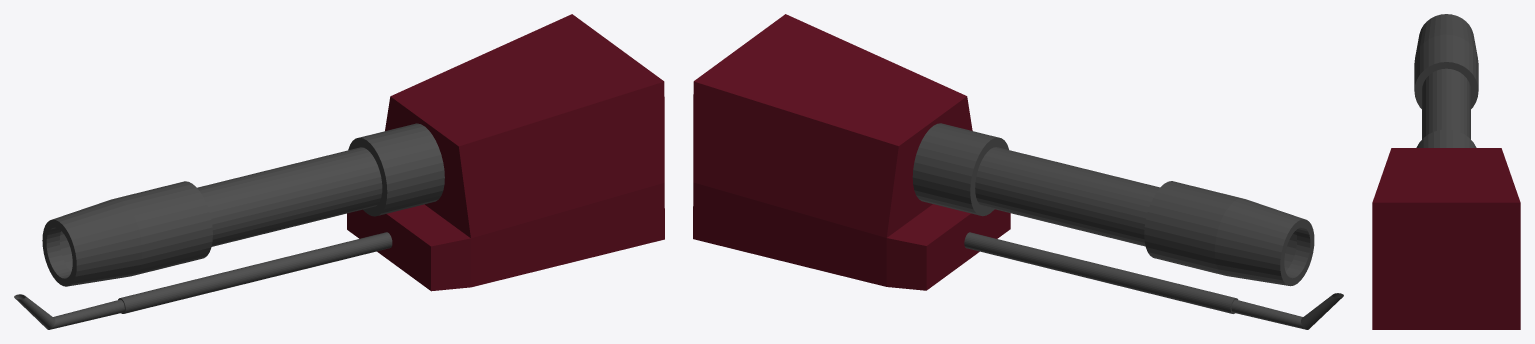
File: flamethrower.fbx
The picture shows the model from 3 angles, left to right: view 1: azimuth 30°, elevation 25°; view 2: azimuth 150°, elevation 25°; view 3: azimuth 270°, elevation 25°; orthographic projection. The views are drawn at different scales.
Visible parts, largest first — view 1: Circle.001, Circle, Circle.002; view 2: Circle.001, Circle, Circle.002; view 3: Circle.001, Circle.
Part boxes in pixels (x1=…): Circle.001: x1=347, y1=14, x2=664, y2=291; Circle: x1=42, y1=123, x2=444, y2=286; Circle.002: x1=14, y1=232, x2=392, y2=329; Circle.001: x1=693, y1=14, x2=1010, y2=290; Circle: x1=912, y1=123, x2=1314, y2=286; Circle.002: x1=964, y1=232, x2=1343, y2=329; Circle.001: x1=1372, y1=148, x2=1520, y2=329; Circle: x1=1414, y1=14, x2=1478, y2=147.
Bounding box in the file's own units: 1751 × 439 × 463.
